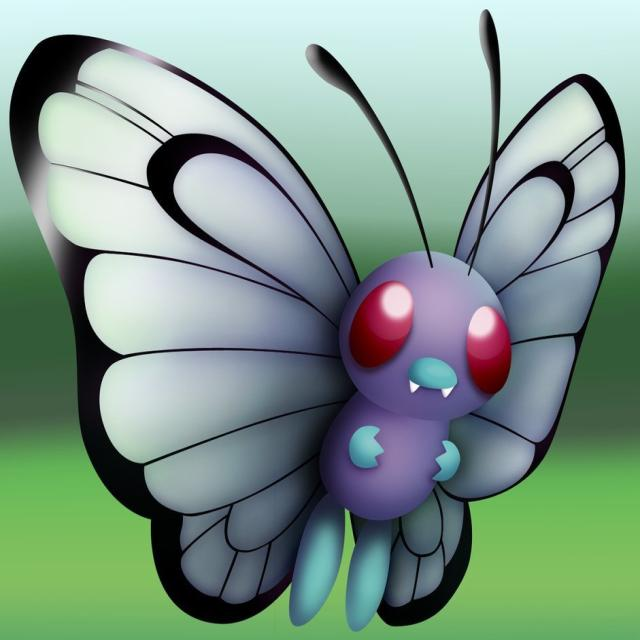Butterfree: (145, 113, 582, 625)
